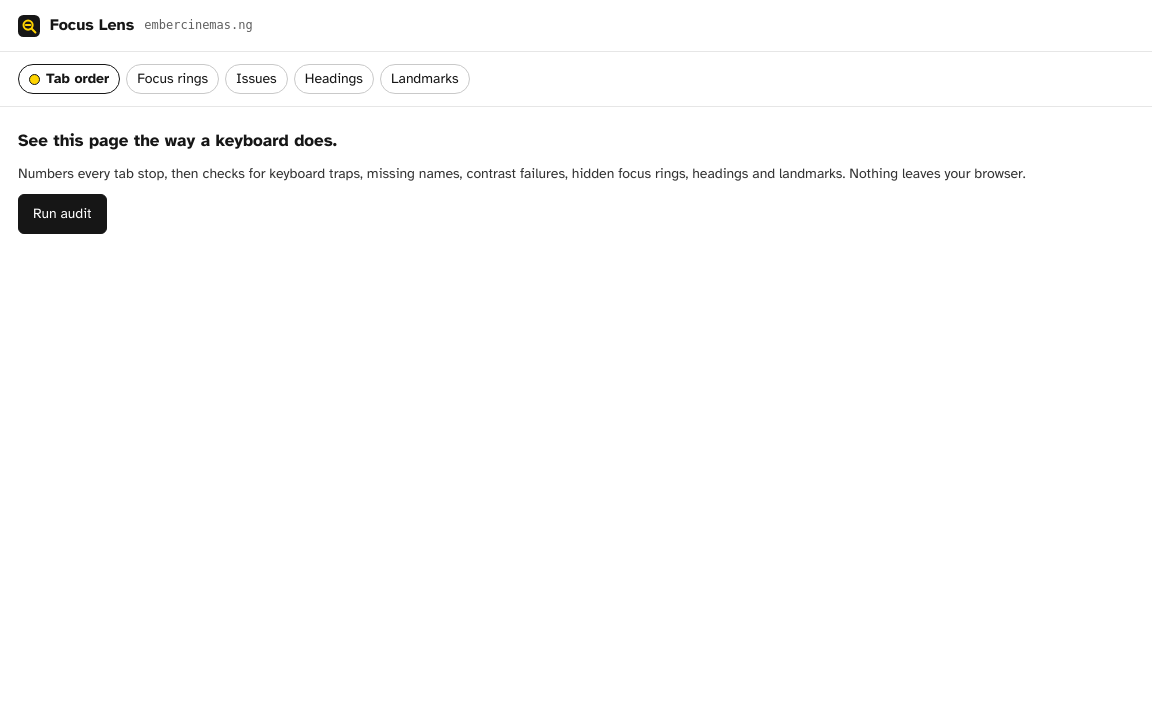
Panel › celebrates a clean page, carefully
The width and height of the screenshot is (1152, 720).
What coordinates should you click on to do the following:
click the button "Run audit"
I would click on:
 (62, 214)
Its box is [18, 194, 107, 234].
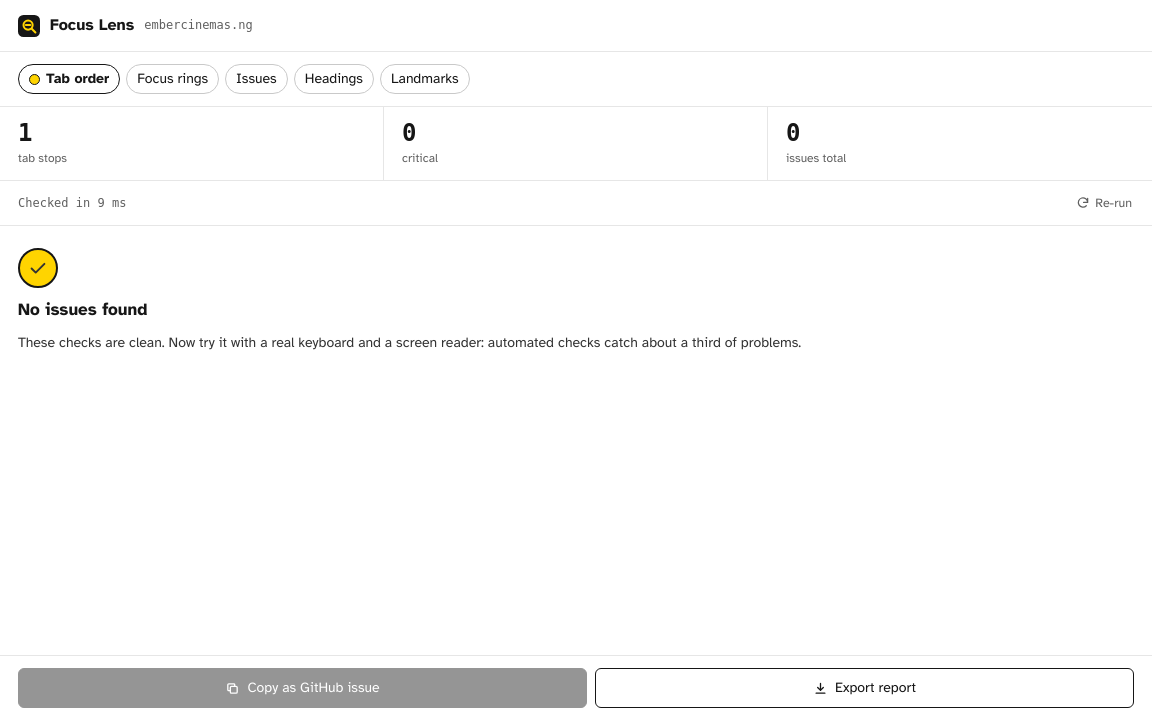
Expected: the text "No issues found" is shown, [18, 298, 147, 323]
Expected: the button "Copy as GitHub issue" is disabled, [18, 668, 587, 708]
